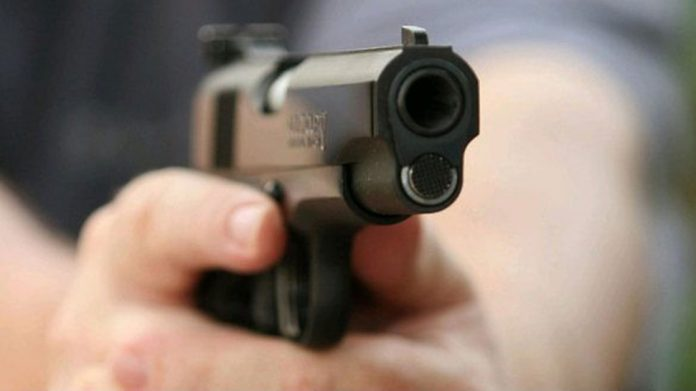Arma Real: (188, 17, 490, 352)
